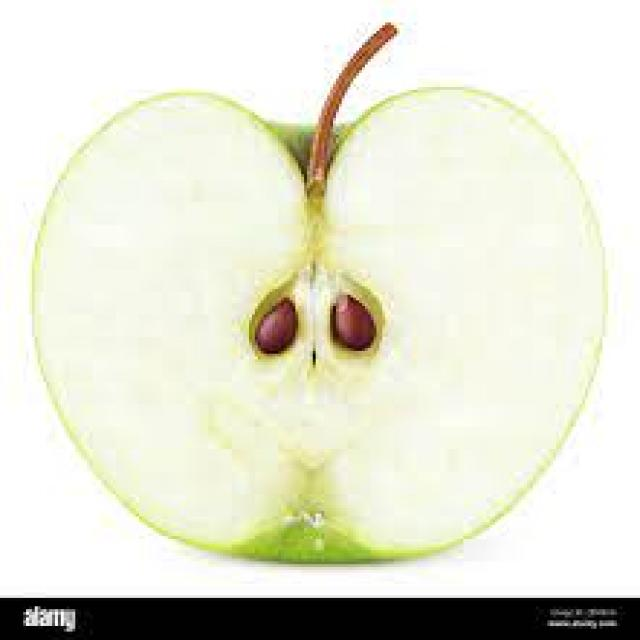Apple: (27, 90, 606, 569)
